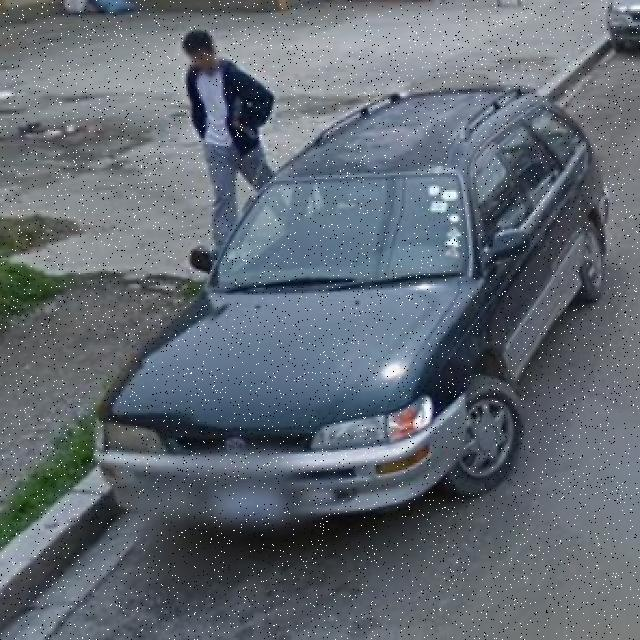cars: (100, 106, 611, 536)
